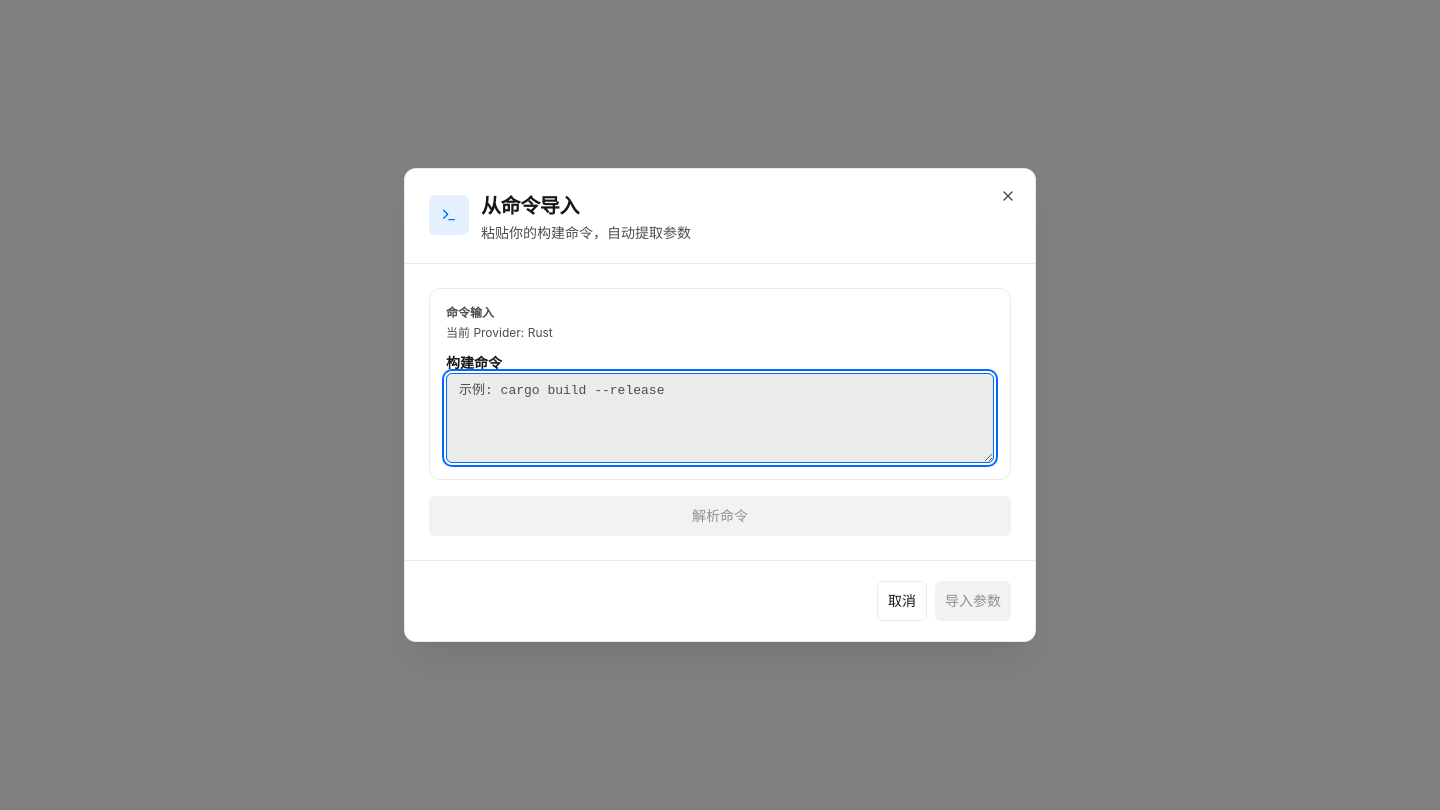
Scenario: CommandImportDialog › 编辑命令后旧结果失效
The width and height of the screenshot is (1440, 810).
Type "cargo build --release" into the text box labelled "构建命令". click: (720, 418)
box: [446,373,994,463]
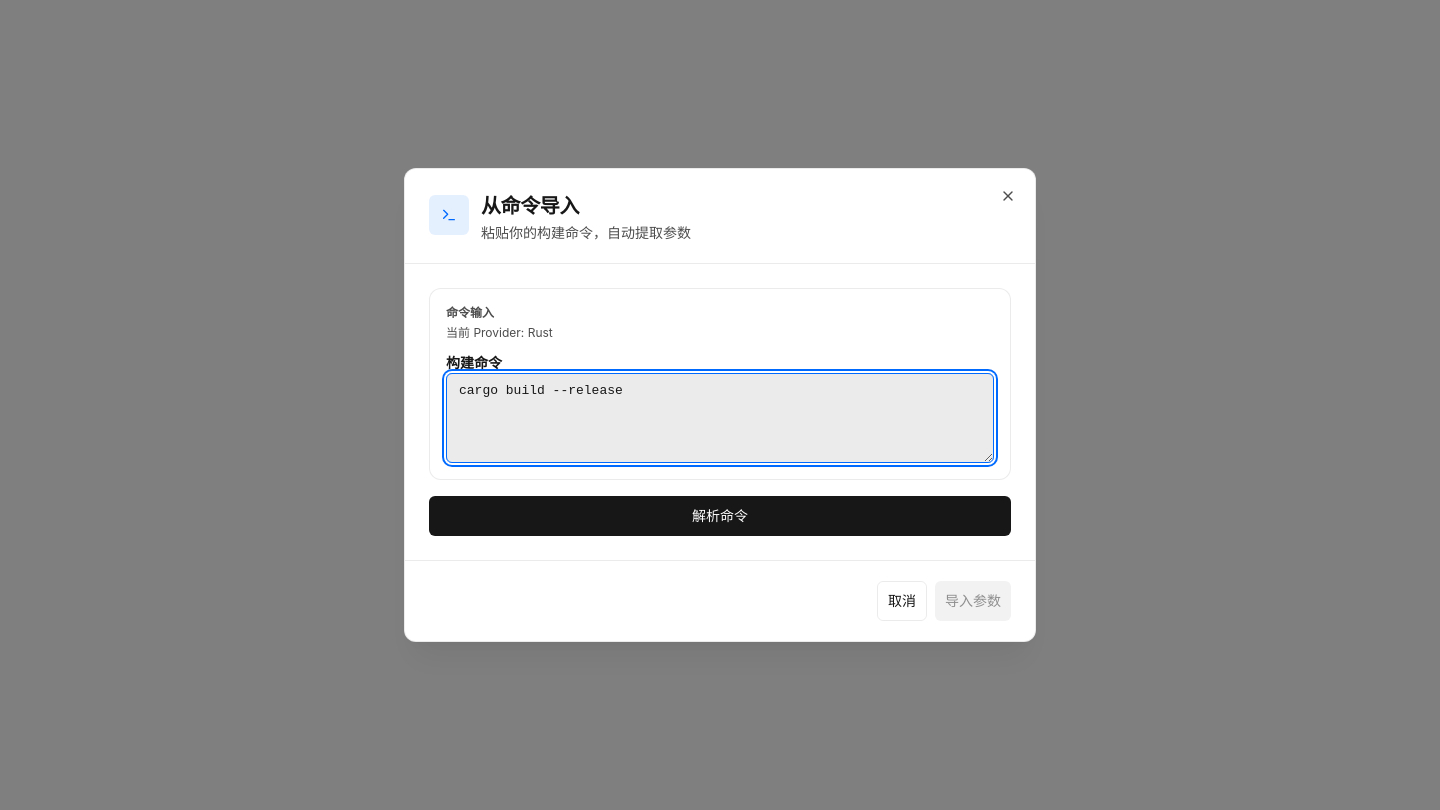
Click the button "解析命令". click: (720, 516)
box: [429,496,1011,536]
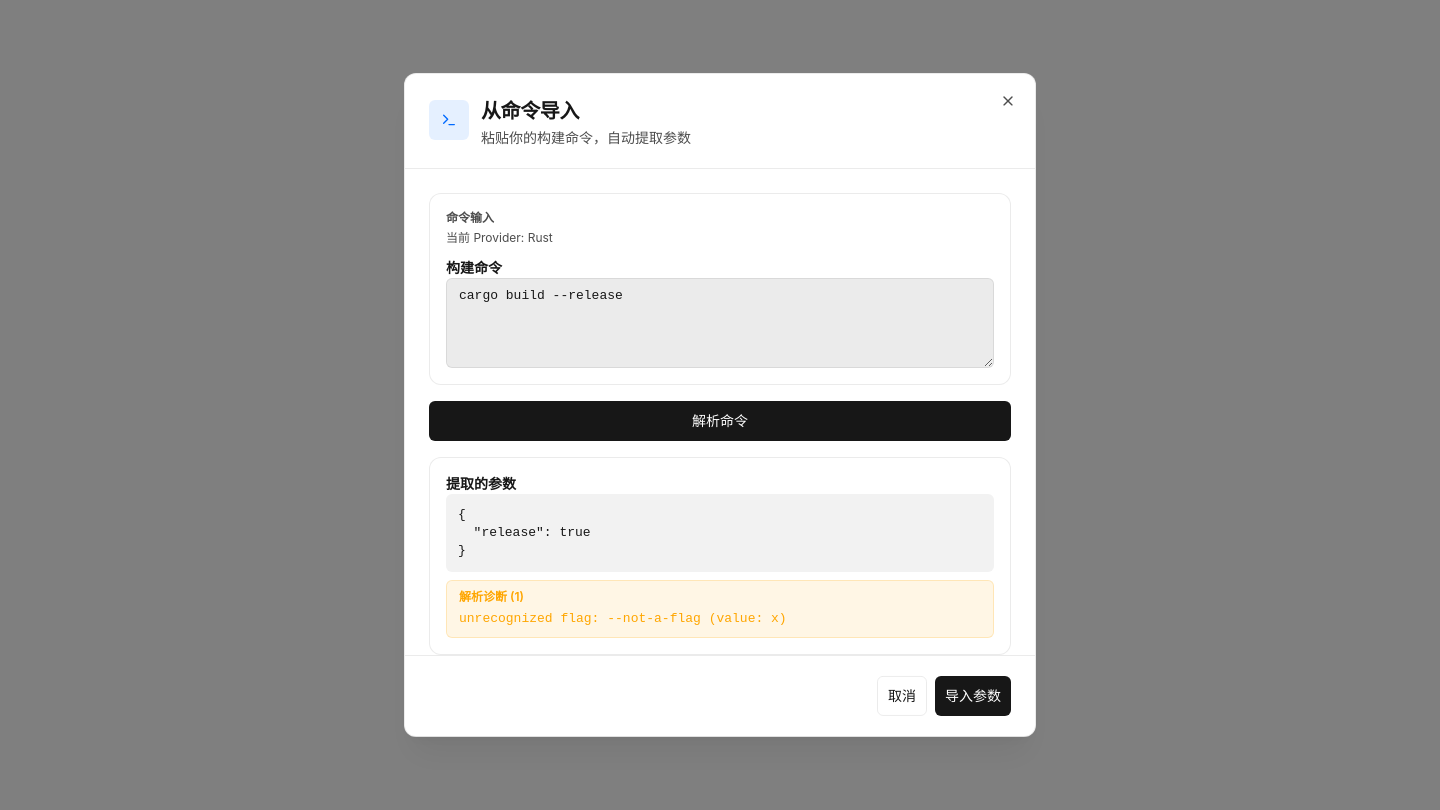
Now the text "提取的参数" is shown, box [446,475,516,492]
Replace the text in the text box labelled "构建命令" with "cargo build". click: (720, 323)
box: [446,278,994,368]
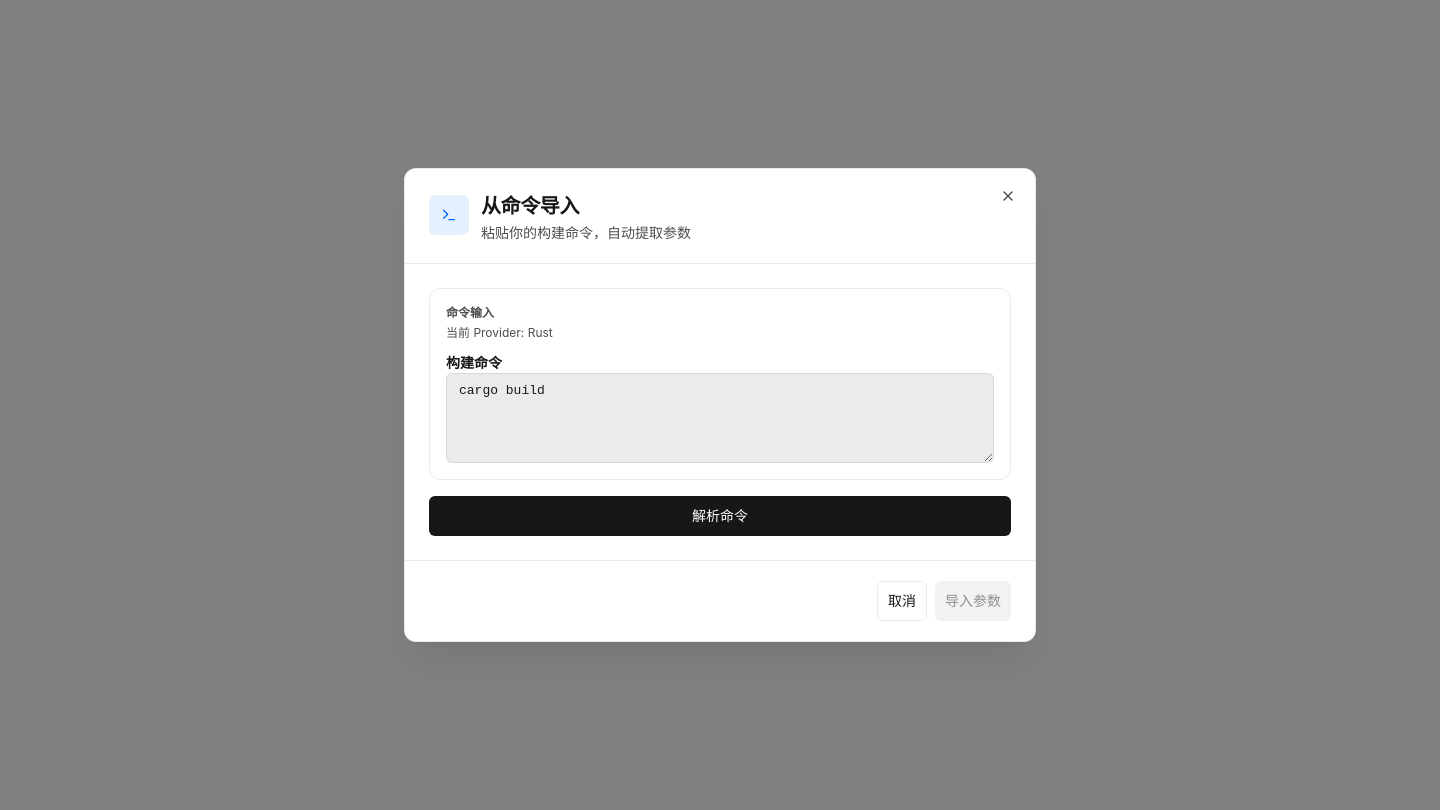
Now the button "导入参数" is disabled, box [935,581,1011,621]
Now the text "提取的参数" is gone
